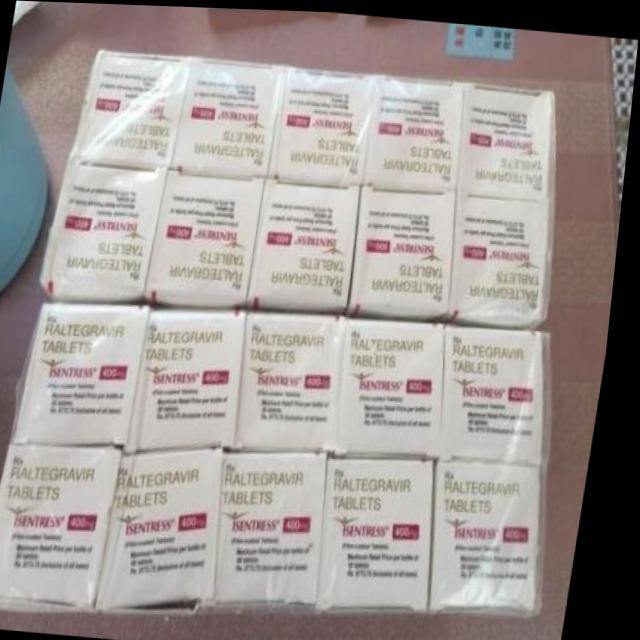box: (0, 444, 134, 611), (19, 299, 160, 446), (110, 448, 234, 611), (440, 463, 559, 613), (46, 157, 174, 296), (225, 449, 336, 607), (330, 457, 444, 609), (149, 165, 271, 305), (135, 308, 252, 448), (346, 315, 455, 462), (453, 322, 559, 467), (242, 313, 351, 454), (254, 177, 365, 312), (454, 190, 560, 325), (74, 48, 194, 166), (173, 54, 289, 176), (355, 183, 457, 318), (270, 66, 376, 183), (364, 70, 465, 192), (458, 80, 559, 197)
